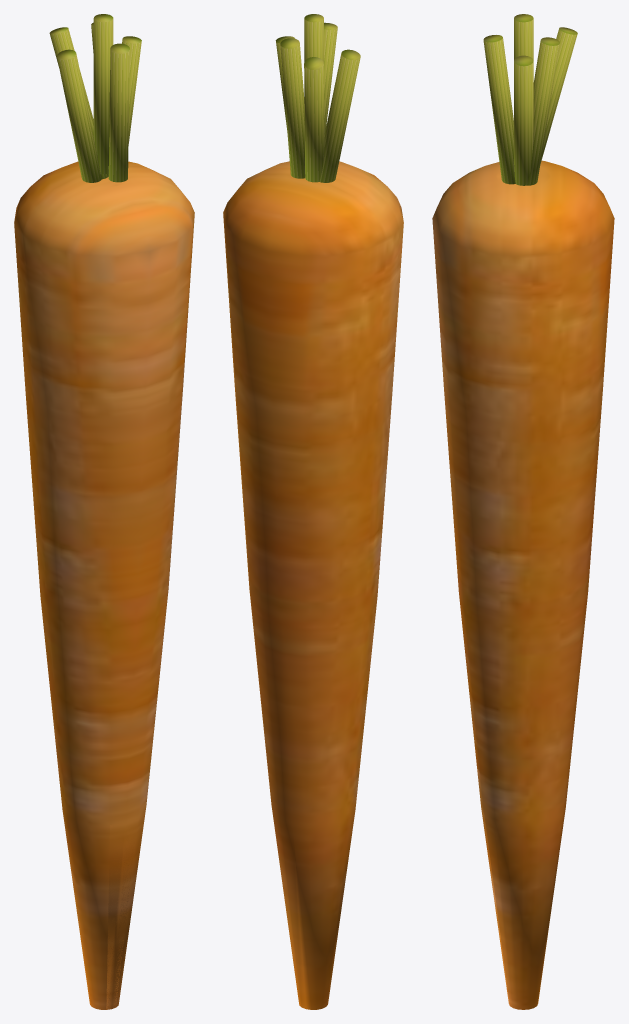
The model's file is carrot.fbx.
3 renders of one model, left to right at view 1: azimuth 30°, elevation 25°; view 2: azimuth 150°, elevation 25°; view 3: azimuth 270°, elevation 25°, orthographic.
Visible parts, largest first — view 1: Carrot, stem; view 2: Carrot, stem; view 3: Carrot, stem.
Boxes of the visible parts, box(x1,y1,x2,y2) form: Carrot: box(14, 161, 194, 1009); stem: box(49, 14, 141, 182); Carrot: box(223, 161, 403, 1009); stem: box(275, 14, 360, 182); Carrot: box(432, 160, 614, 1009); stem: box(483, 14, 577, 185).
Bounding box in the file's own units: 0.19 × 1.13 × 0.19.
